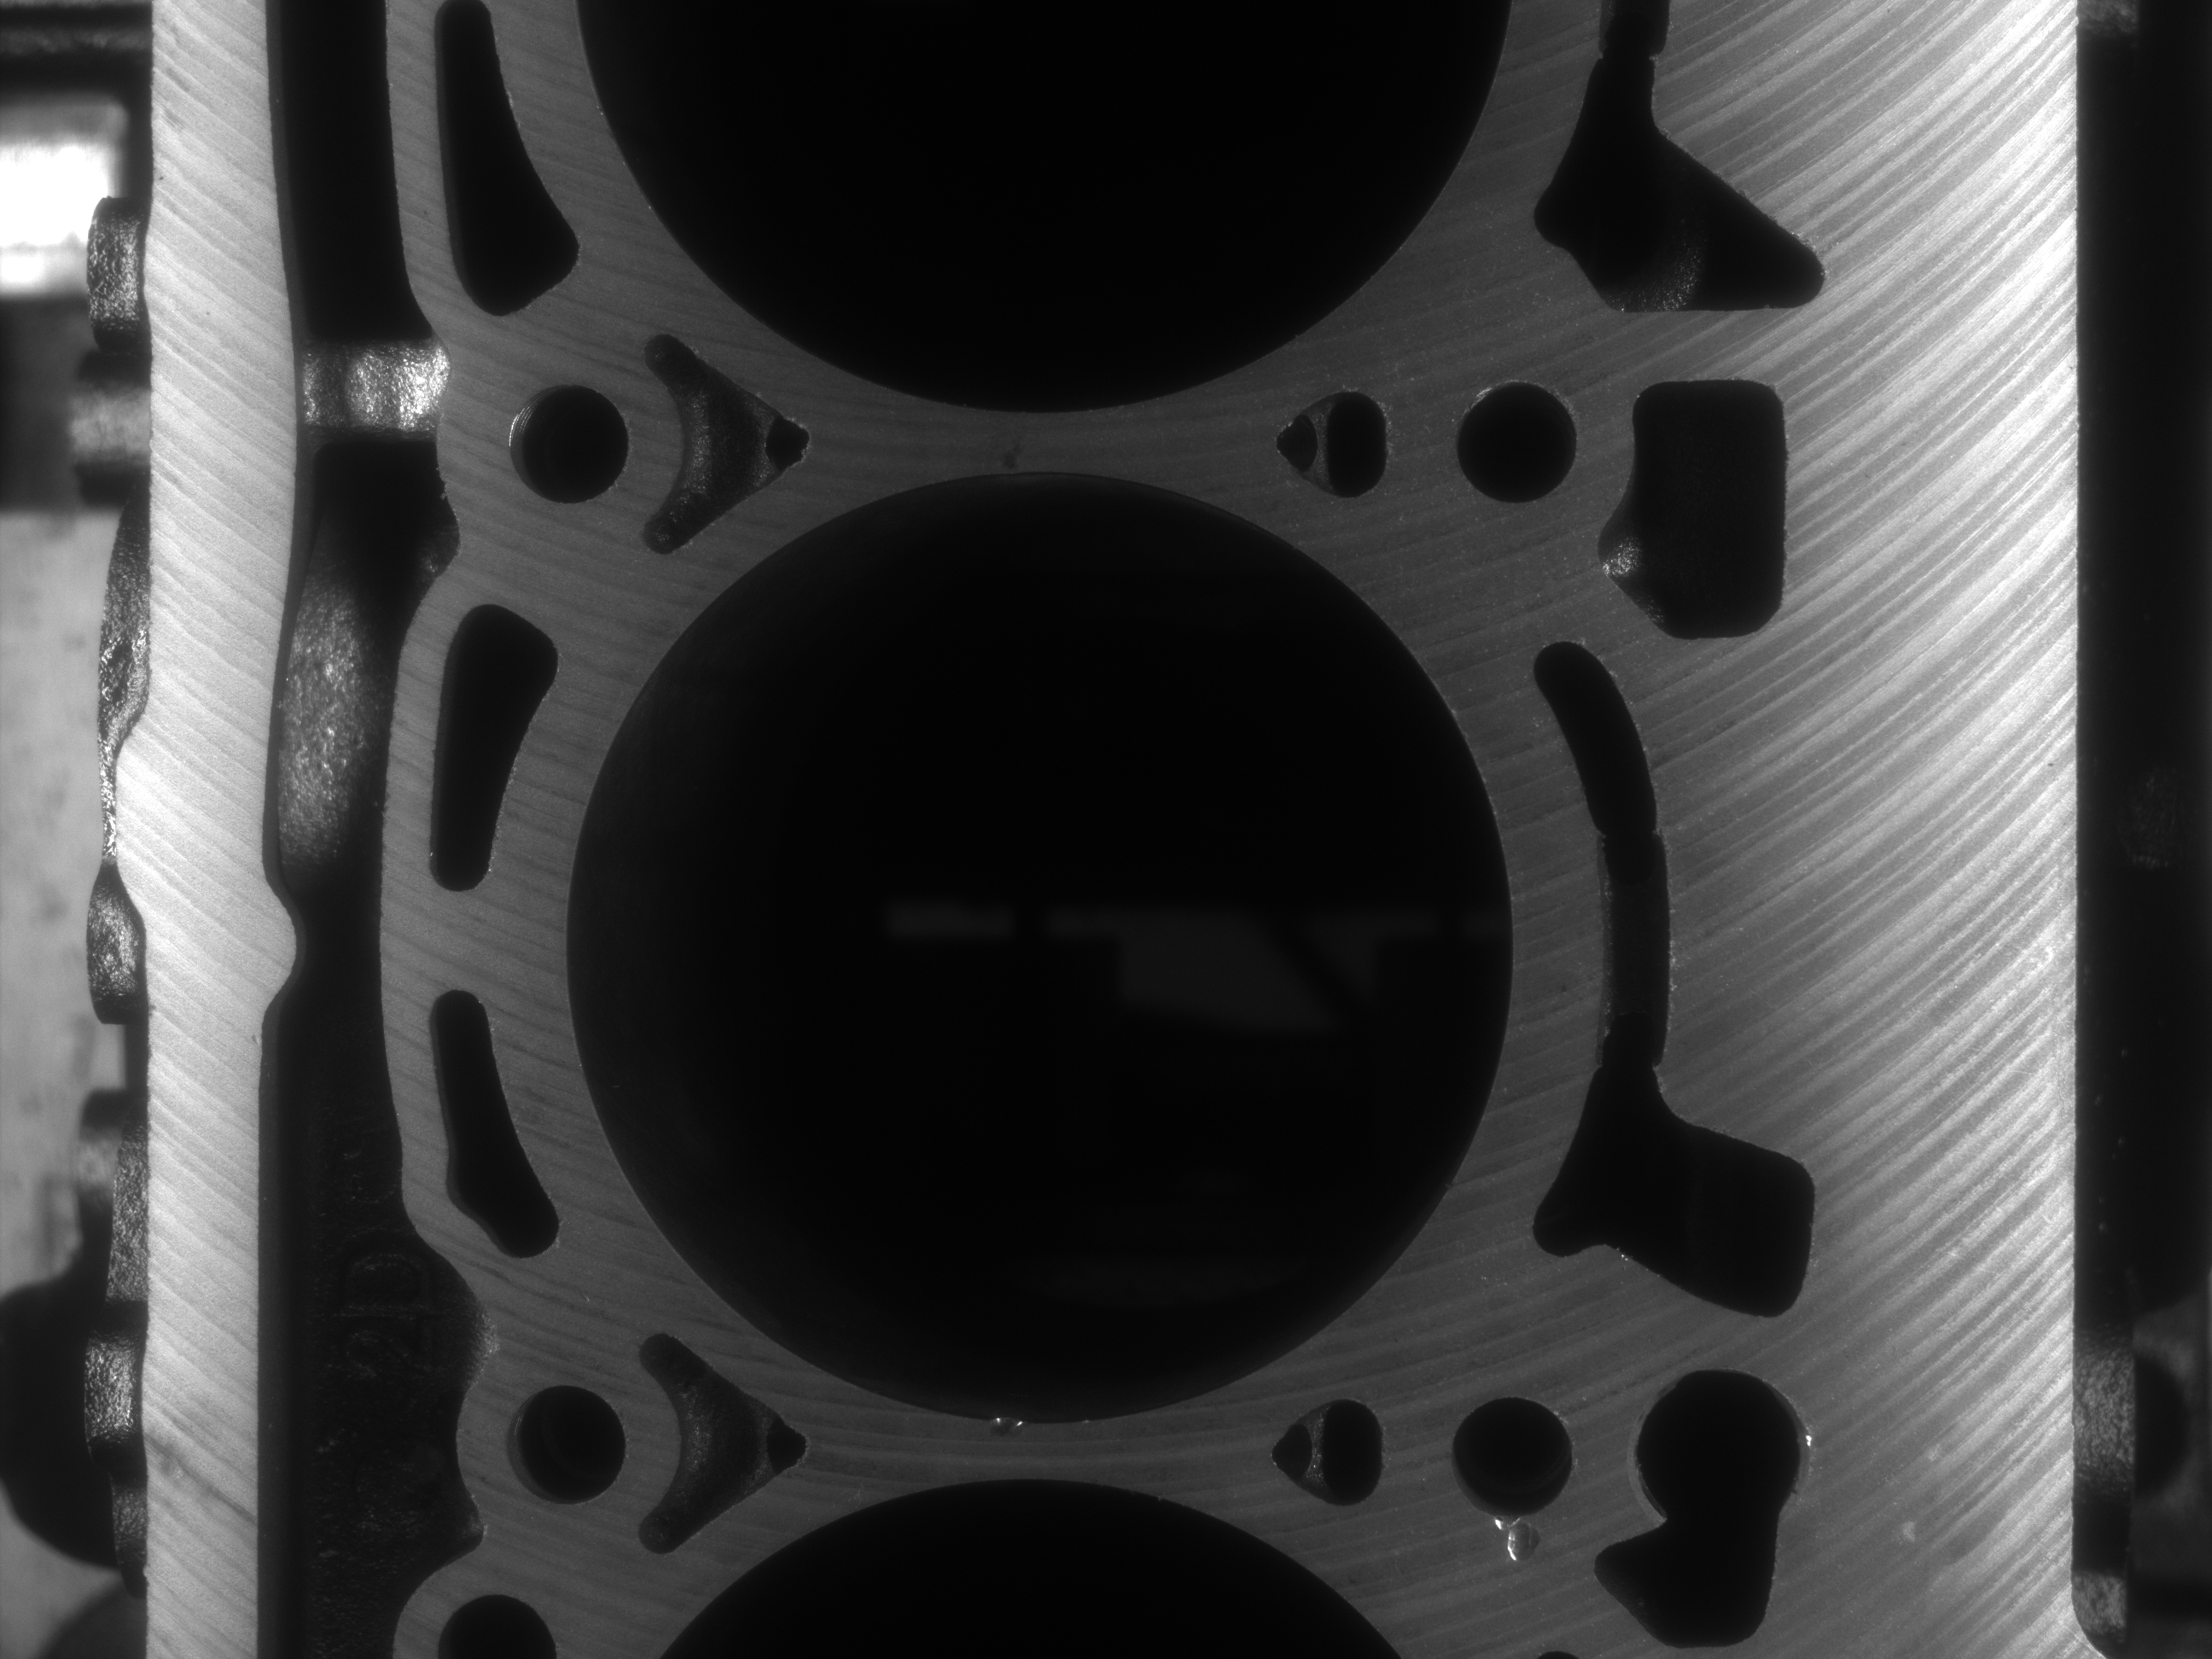sandhole: (1489, 1520, 1552, 1570)
shrinkage: (979, 1412, 1035, 1450)
